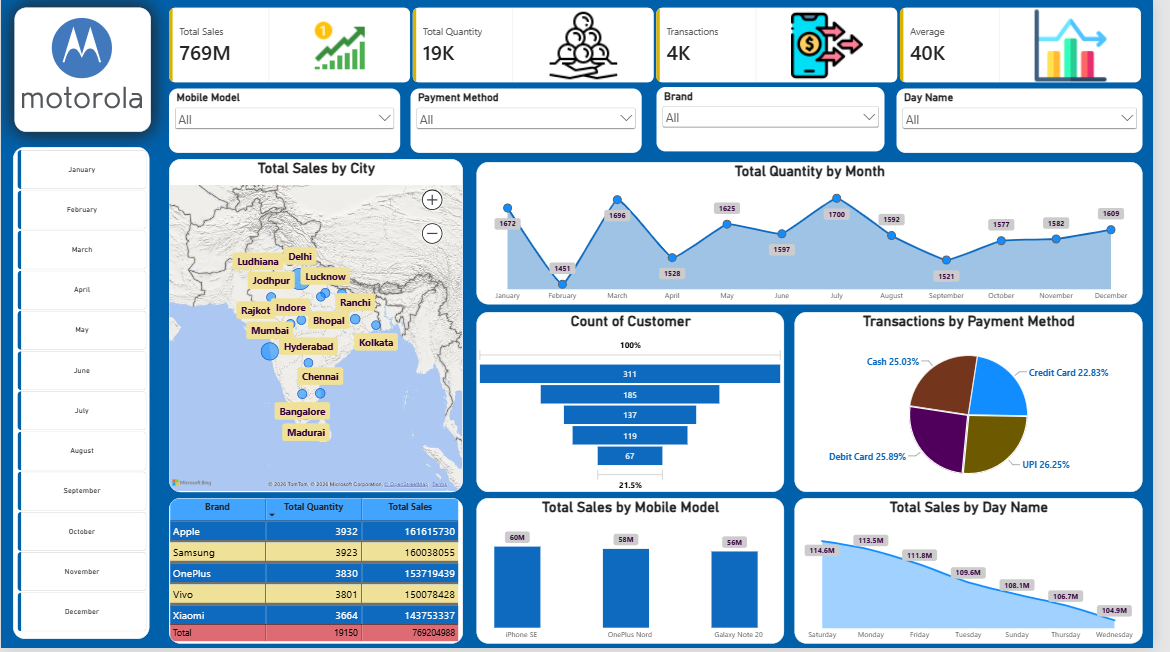

The dashboard page shown, as its layout file describes it:
{"tool":"powerbi","page":{"name":"Page 1","canvas":[1920,1080],"ordinal":0},"visuals":[{"type":"shape","box":[22.5,12.5,227.5,207.5],"z":0},{"type":"image","box":[35,12.5,200,185],"z":1000},{"type":"shape","box":[20,245,227.5,820],"z":1001},{"type":"advancedSlicerVisual","fields":{"Values":["Sheet1.Date.Variation.Date Hierarchy.Month"]},"box":[27.5,250,215,812.5],"z":1002},{"type":"cardVisual","fields":{"Data":["seles_data.Total Sales","seles_data.Total Quantity","seles_data.Transactions","seles_data.Average"]},"box":[280,12.5,1622.5,130],"z":1004},{"type":"map","fields":{"Category":["seles_data.City"],"Size":["seles_data.Total Sales"]},"box":[280,265,490,555],"z":1005},{"type":"lineChart","fields":{"Category":["seles_data.Date.Variation.Date Hierarchy.Month","seles_data.Date.Variation.Date Hierarchy.Day"],"Y":["seles_data.Total Quantity"]},"box":[792.5,270,1110,237.5],"z":1006},{"type":"clusteredColumnChart","fields":{"Category":["seles_data.Mobile Model"],"Y":["seles_data.Total Sales"]},"box":[792.5,830,512.5,242.5],"z":1007},{"type":"pieChart","fields":{"Category":["seles_data.Payment Method"],"Y":["seles_data.Transactions"]},"box":[1322.5,520,580,300],"z":1008},{"type":"funnel","title":"Count of Customer","fields":{"Category":["seles_data.Customer Ratings"],"Y":["CountNonNull(seles_data.Customer Ratings)"]},"box":[792.5,520,512.5,300],"z":1010},{"type":"areaChart","fields":{"Category":["seles_data.Day Name"],"Y":["seles_data.Total Sales"]},"box":[1322.5,830,580,242.5],"z":1011},{"type":"tableEx","fields":{"Values":["seles_data.Brand","seles_data.Total Quantity","seles_data.Total Sales"]},"box":[280,830,490,242.5],"z":1012},{"type":"slicer","fields":{"Values":["seles_data.Mobile Model"]},"box":[280,147.5,385,107.5],"z":1014},{"type":"slicer","fields":{"Values":["seles_data.Payment Method"]},"box":[682.5,147.5,385,107.5],"z":1015},{"type":"slicer","fields":{"Values":["seles_data.Brand"]},"box":[1092.5,145,380,107.5],"z":1016},{"type":"slicer","fields":{"Values":["seles_data.Day Name"]},"box":[1492.5,147.5,410,107.5],"z":1017}]}

Visuals, with their boxes in screenshot pixels (x1, y1, x2, y2), scaled from the page's 1920x1080 canvas onto the 1170x652 screenshot:
shape: bbox=[14, 8, 152, 133]
image: bbox=[21, 8, 143, 119]
shape: bbox=[12, 148, 151, 643]
advancedSlicerVisual - Sheet1.Date.Variation.Date Hierarchy.Month: bbox=[17, 151, 148, 641]
cardVisual - seles_data.Total Sales x seles_data.Total Quantity: bbox=[171, 8, 1159, 86]
map - seles_data.City x seles_data.Total Sales: bbox=[171, 160, 469, 495]
lineChart - seles_data.Date.Variation.Date Hierarchy.Month x seles_data.Date.Variation.Date Hierarchy.Day: bbox=[483, 163, 1159, 306]
clusteredColumnChart - seles_data.Mobile Model x seles_data.Total Sales: bbox=[483, 501, 795, 647]
pieChart - seles_data.Payment Method x seles_data.Transactions: bbox=[806, 314, 1159, 495]
"Count of Customer" funnel: bbox=[483, 314, 795, 495]
areaChart - seles_data.Day Name x seles_data.Total Sales: bbox=[806, 501, 1159, 647]
tableEx - seles_data.Brand x seles_data.Total Quantity: bbox=[171, 501, 469, 647]
slicer - seles_data.Mobile Model: bbox=[171, 89, 405, 154]
slicer - seles_data.Payment Method: bbox=[416, 89, 651, 154]
slicer - seles_data.Brand: bbox=[666, 88, 897, 152]
slicer - seles_data.Day Name: bbox=[909, 89, 1159, 154]
